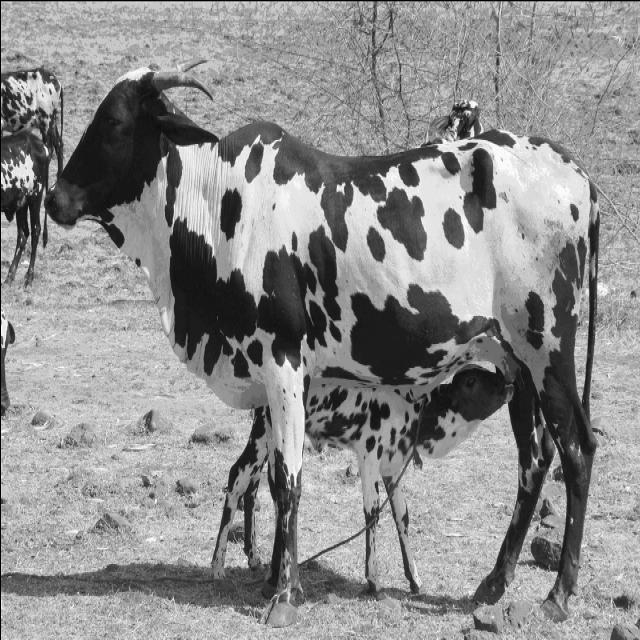Cow: (42, 54, 600, 626)
